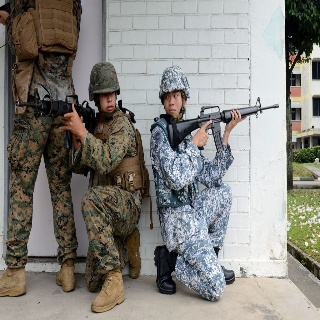rifle: (165, 96, 279, 155), (15, 87, 96, 148)
